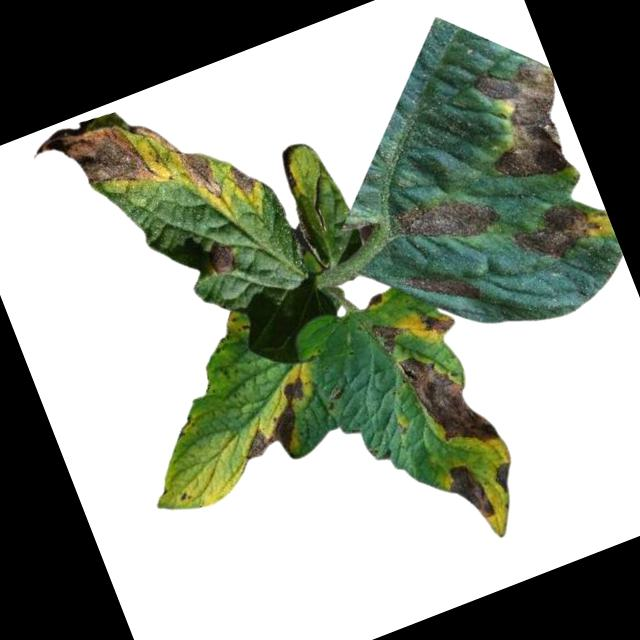Early_blight: (28, 84, 227, 253), (459, 49, 584, 192), (398, 334, 501, 460), (223, 372, 327, 469), (392, 179, 505, 261), (506, 187, 615, 271), (405, 255, 485, 319), (441, 458, 497, 529), (225, 156, 262, 198), (204, 236, 239, 275), (372, 317, 407, 355), (488, 456, 521, 494), (421, 307, 455, 338), (362, 288, 386, 308)
